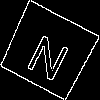N: (24, 25, 76, 83)
